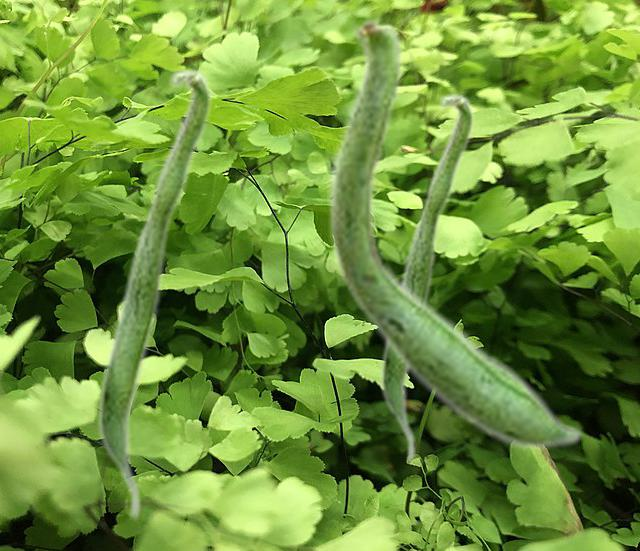french_bean: (327, 13, 583, 451), (96, 67, 212, 522), (379, 92, 474, 464)
